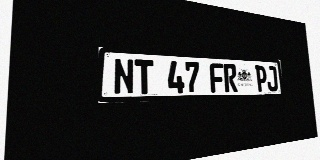4: (167, 61, 185, 94)
7: (184, 62, 201, 93)
F: (209, 63, 225, 93)
J: (266, 66, 278, 91)
N: (114, 58, 134, 95)
P: (255, 65, 268, 92)
R: (223, 64, 238, 92)
T: (135, 59, 154, 94)
